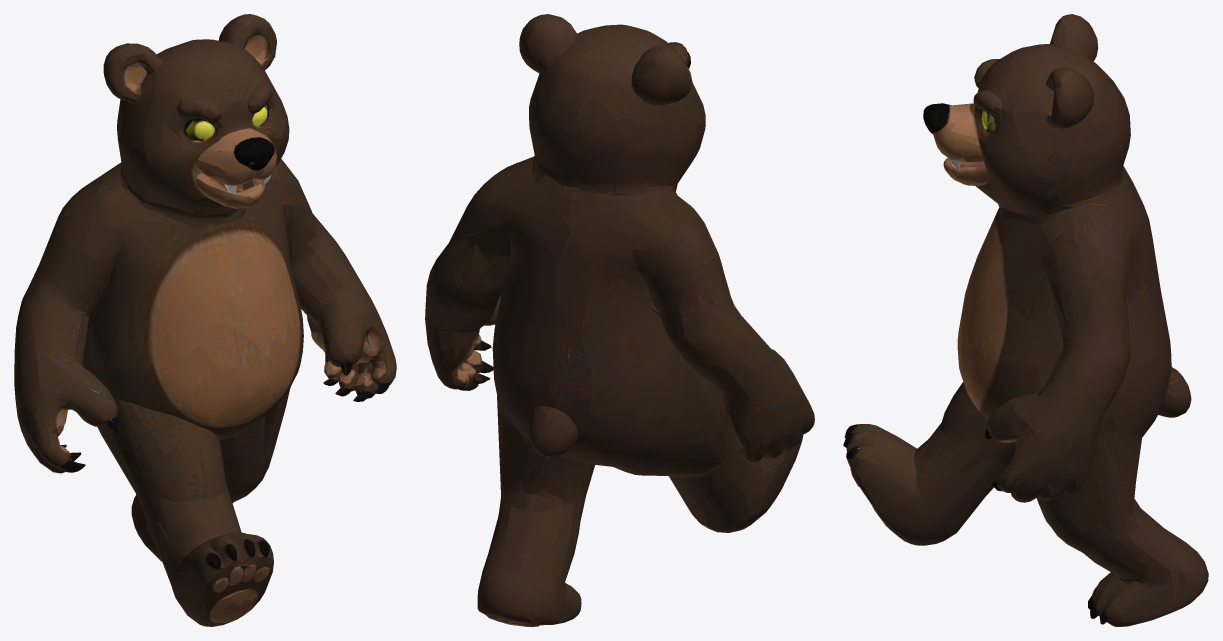
Rendered from beer.glb.
The picture shows the model from 3 angles, left to right: view 1: azimuth 30°, elevation 25°; view 2: azimuth 150°, elevation 25°; view 3: azimuth 270°, elevation 25°; orthographic projection. The views are drawn at different scales.
Size of the model in its own units: 1.27 by 1.9 by 1.14.
1 material, 1 textured.
